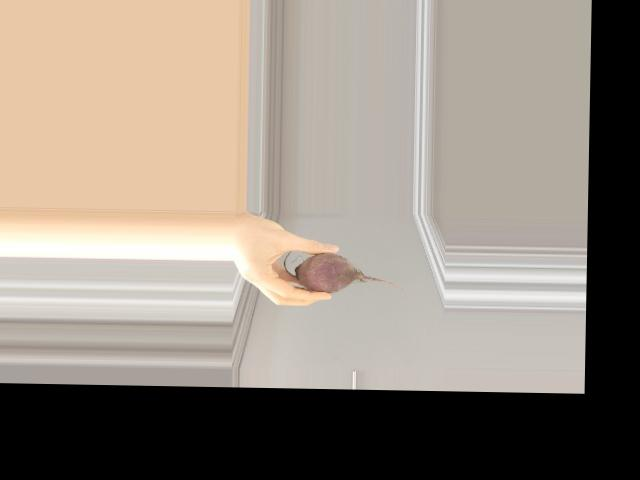beet: (284, 251, 410, 293)
